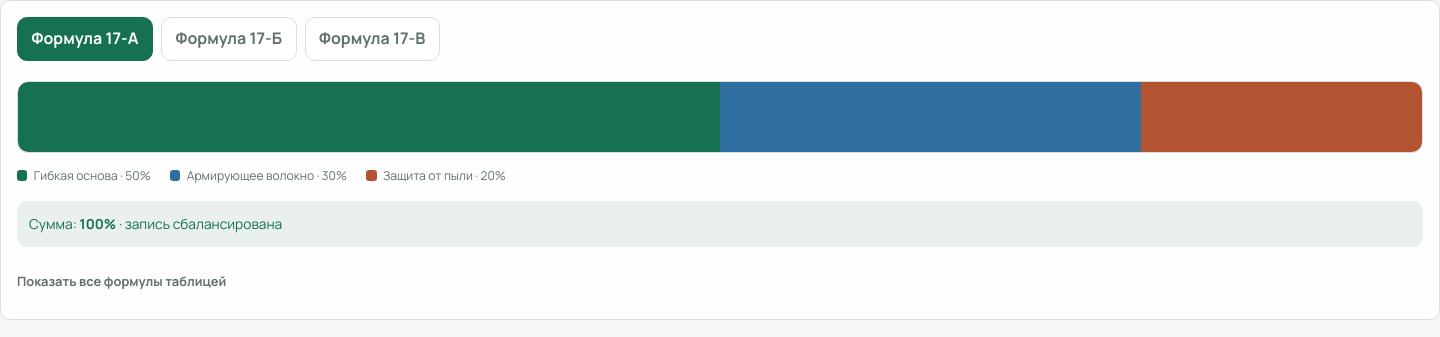
Test: mission visualizations › shows why formula 17-Б stops the dispenser
Click the button "Формула 17-Б".
click(229, 39)  # box [161,17,296,61]
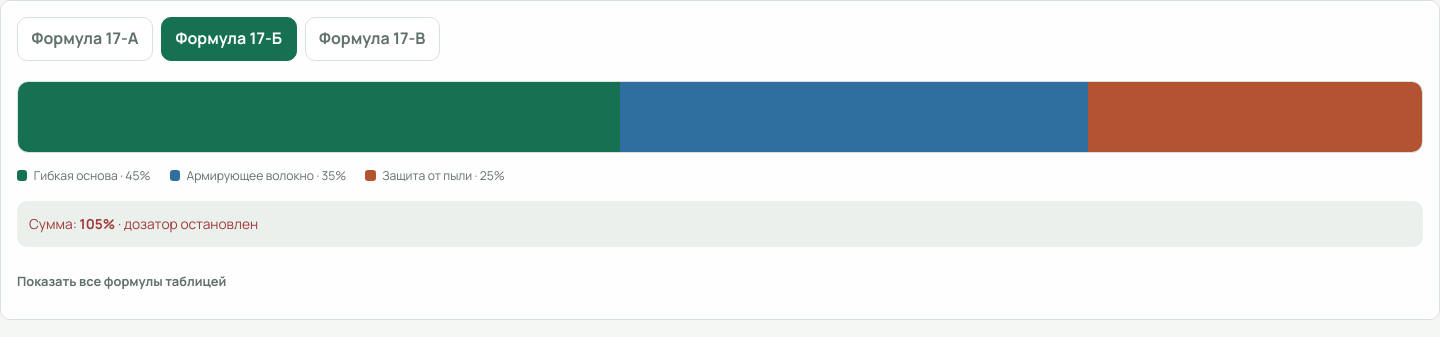
Expected: the message shows "105%", [17,201,1423,247]
Expected: the message shows "дозатор остановлен", [124,214,258,233]
